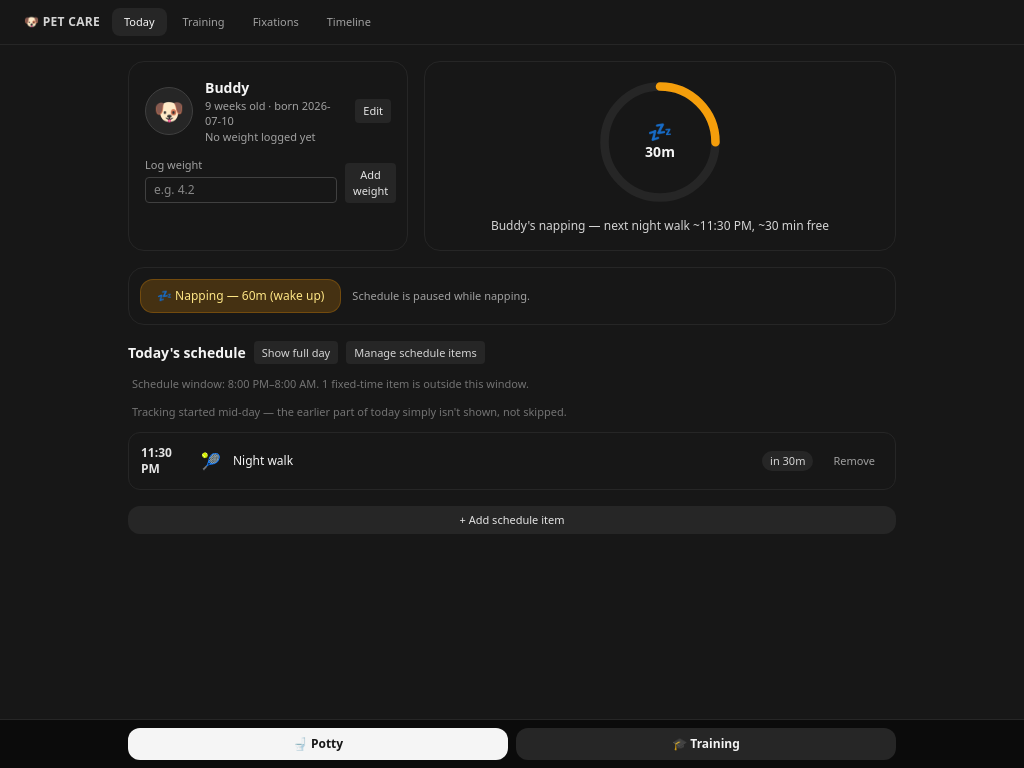
Test: PetPage › renders and reflows within a configured overnight window
The image size is (1024, 768).
Expected: the text "11:30 PM" is shown, [141, 444, 172, 477]
Expected: the text "1 fixed-time item is outside this window" is shown, [319, 376, 529, 391]
Click the button "💤 Napping — 60m (wake up)". click: (241, 296)
box: [141, 280, 340, 312]
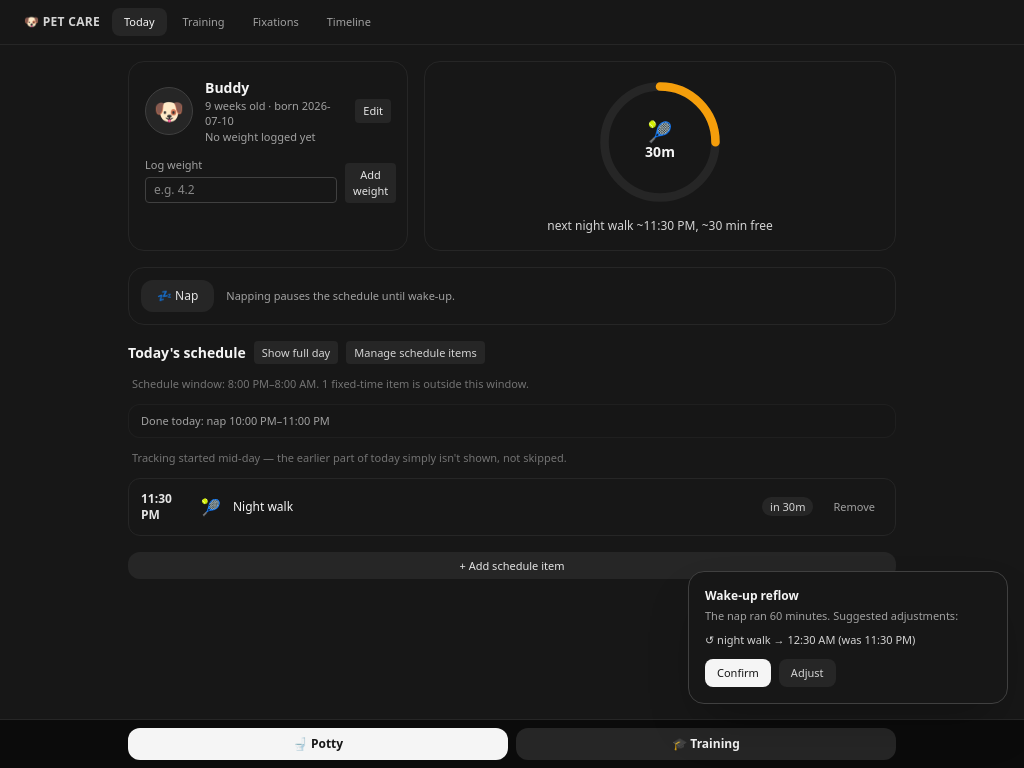
Expected: the dialog named "Nap reflow suggestion" shows "12:30 AM", [787, 632, 835, 647]
